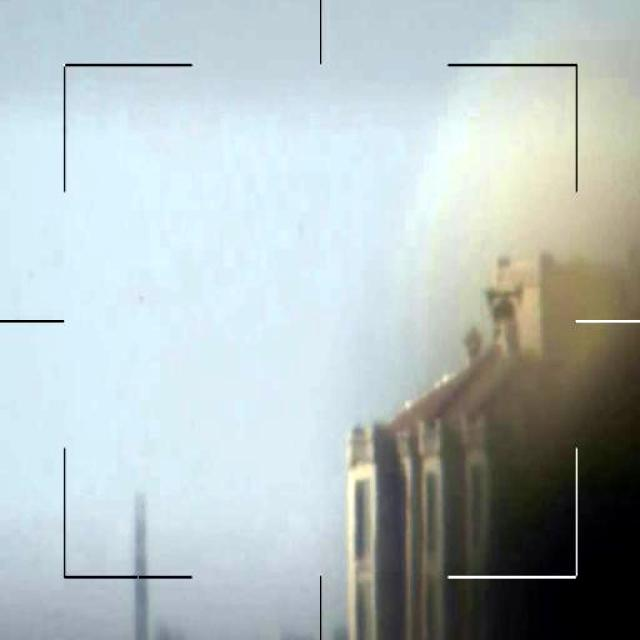bird: (475, 272, 529, 362)
